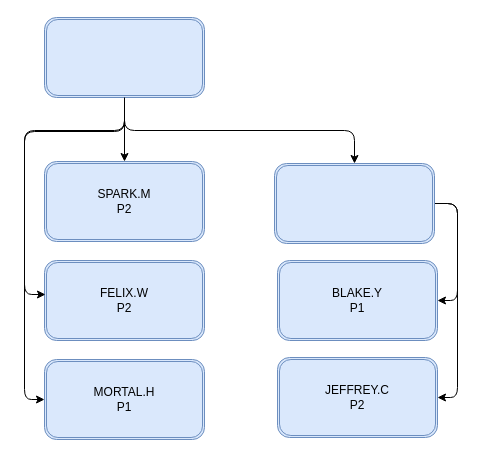
The diagram is 483 pixels wide and 457 high, and some of its shapes have lost their labels. The centre of each missing label's shape, as x and y in pixels:
"FRANK.L ODYSSEY组(3) P2" belongs at (354,203).
"VINSON.T Atlas组(7) M3" belongs at (124,57).
